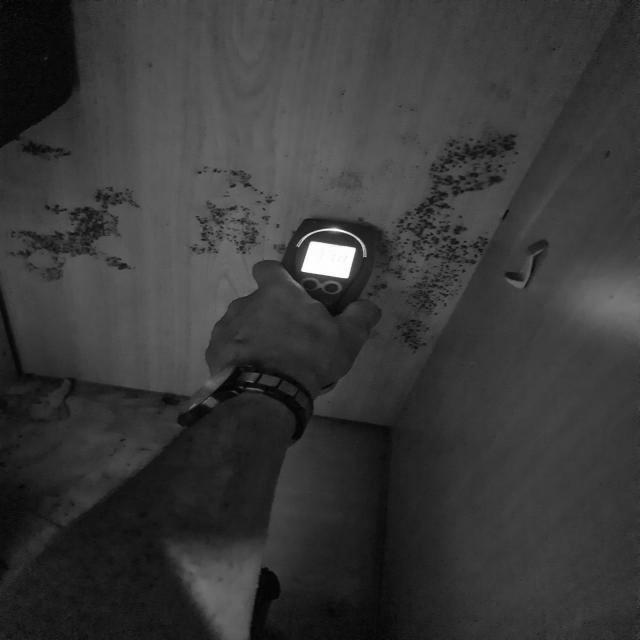stain marks: (400, 0, 640, 214), (361, 218, 493, 346), (1, 179, 159, 283), (169, 152, 283, 266), (305, 137, 400, 210), (20, 124, 91, 166)
